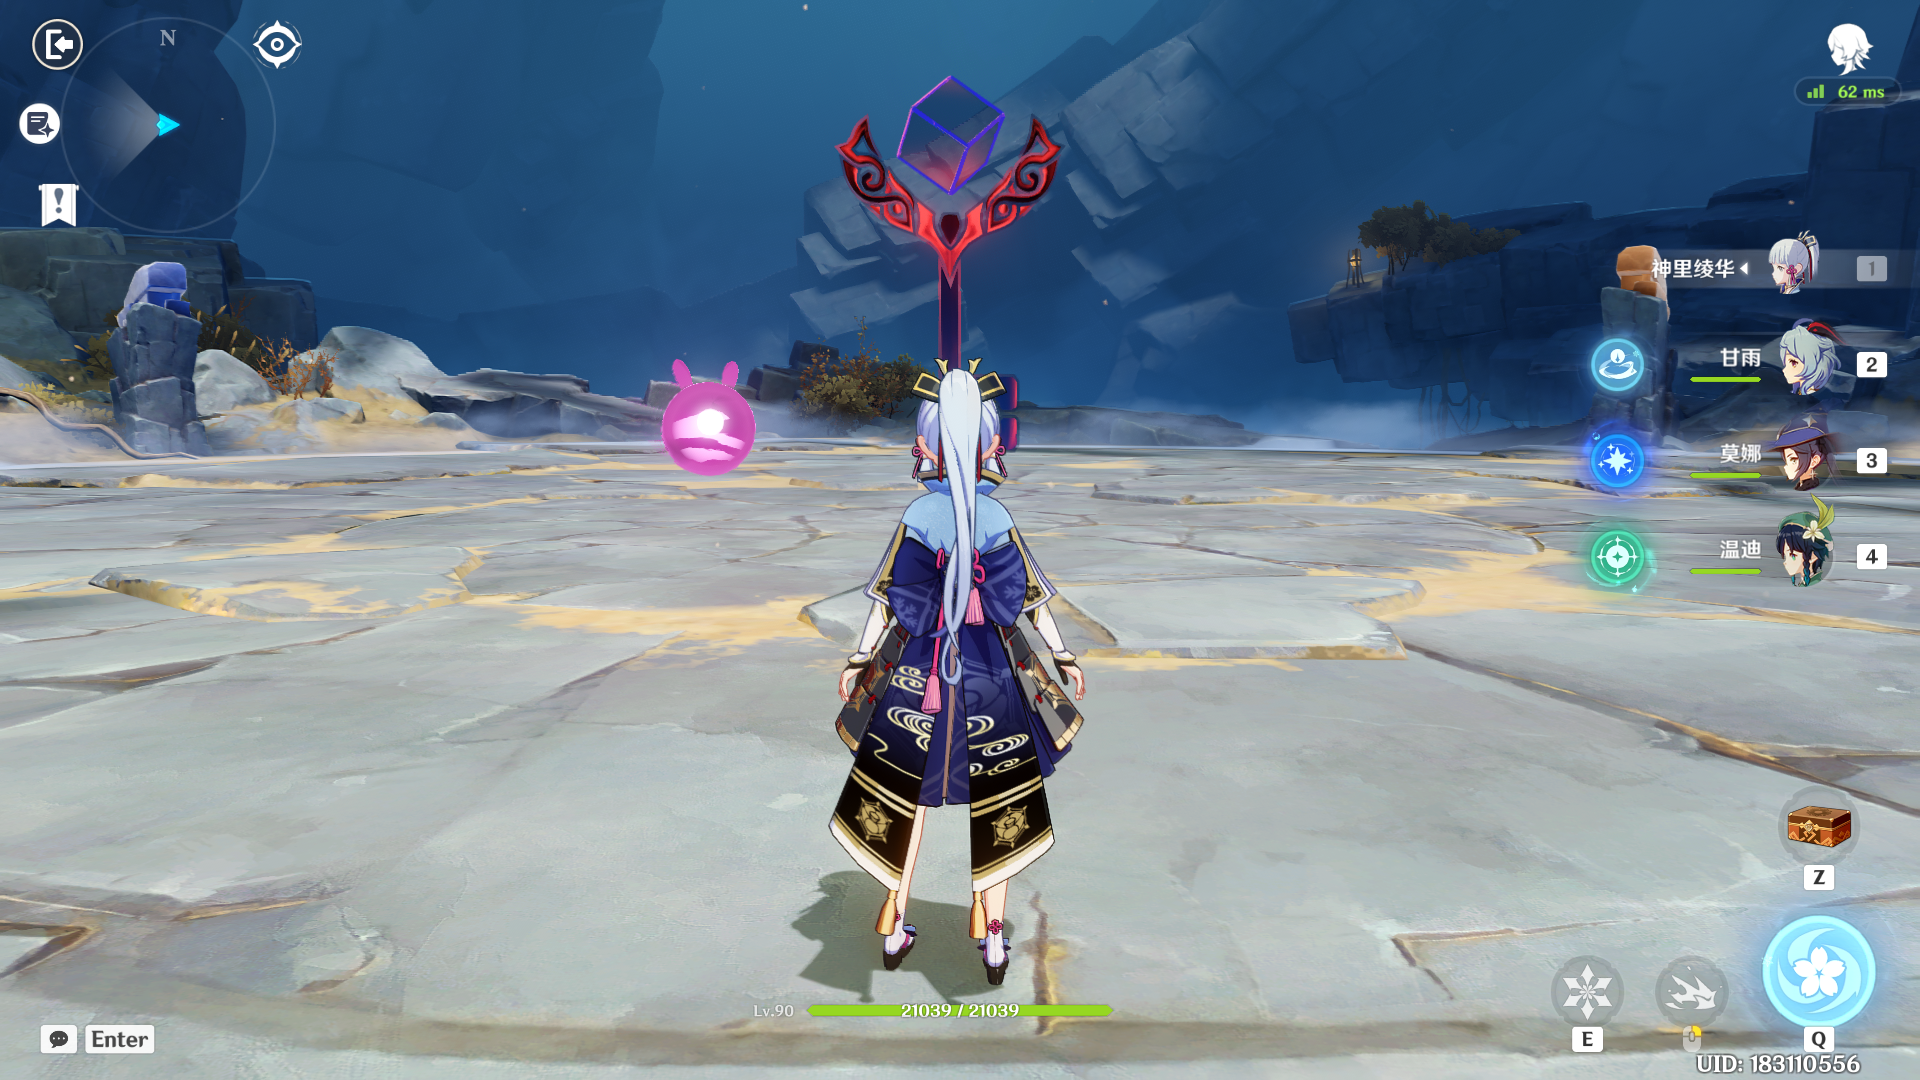character: (796, 328, 1135, 1002)
